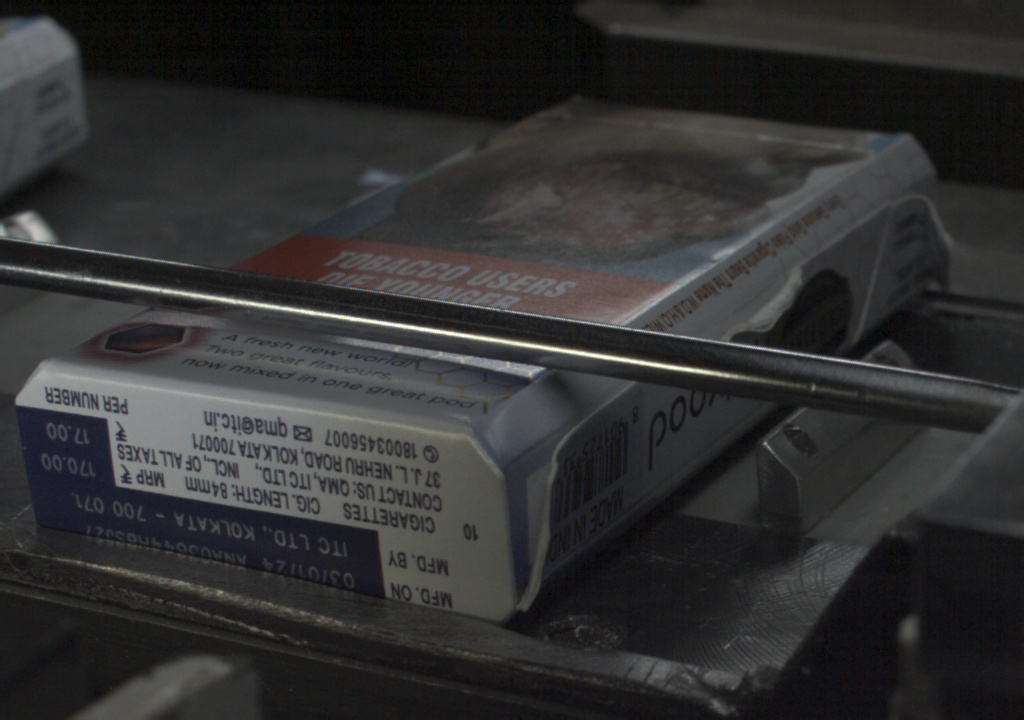g_bottom: (16, 371, 506, 627)
g_label: (25, 482, 385, 593)
ng_lmiter: (511, 424, 574, 612), (729, 263, 812, 337)
ng_miter: (887, 173, 954, 296)
price: (23, 407, 114, 480)
